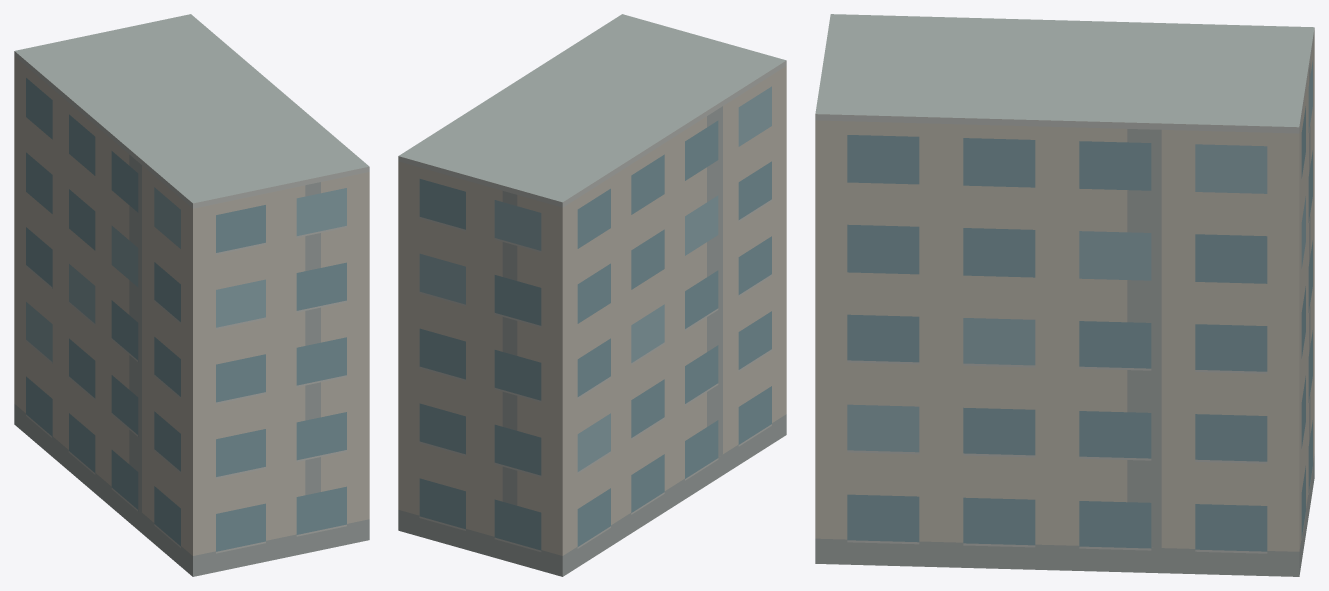
Rendered from survey-upis-32768150.glb.
The picture shows the model from 3 angles, left to right: view 1: azimuth 30°, elevation 25°; view 2: azimuth 150°, elevation 25°; view 3: azimuth 270°, elevation 25°; orthographic projection. The views are drawn at different scales.
Visible parts, largest first — view 1: survey-upis-32768150.tmp; view 2: survey-upis-32768150.tmp; view 3: survey-upis-32768150.tmp.
Part boxes in pixels (box(x1,y1,x2,y2)): survey-upis-32768150.tmp: box(14, 14, 369, 576); survey-upis-32768150.tmp: box(398, 14, 786, 576); survey-upis-32768150.tmp: box(815, 14, 1314, 576).
Size of the model in its own units: 9.34 by 17.28 by 17.4.
